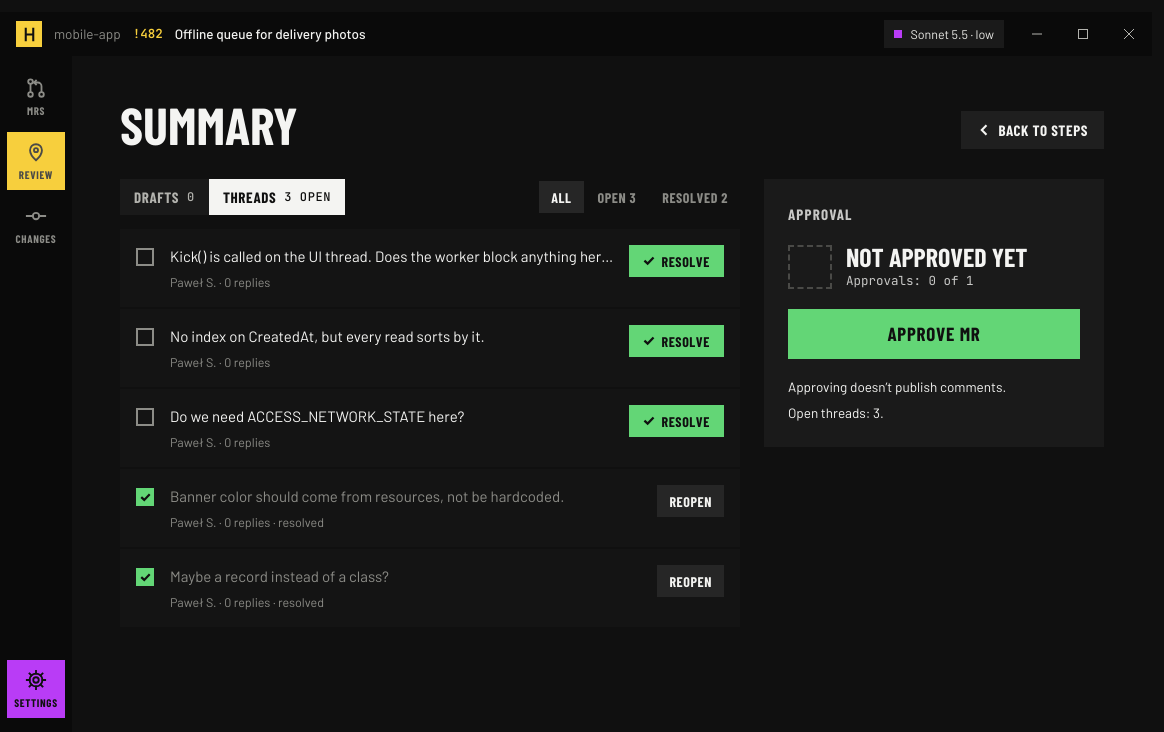
Test: S-05 Threads tab filters (F-13.1) › F-13.1 Resolved shows only the resolved threads and is the pressed filter
Click the button "Resolved 2".
click(695, 197)  # box [650, 181, 740, 213]
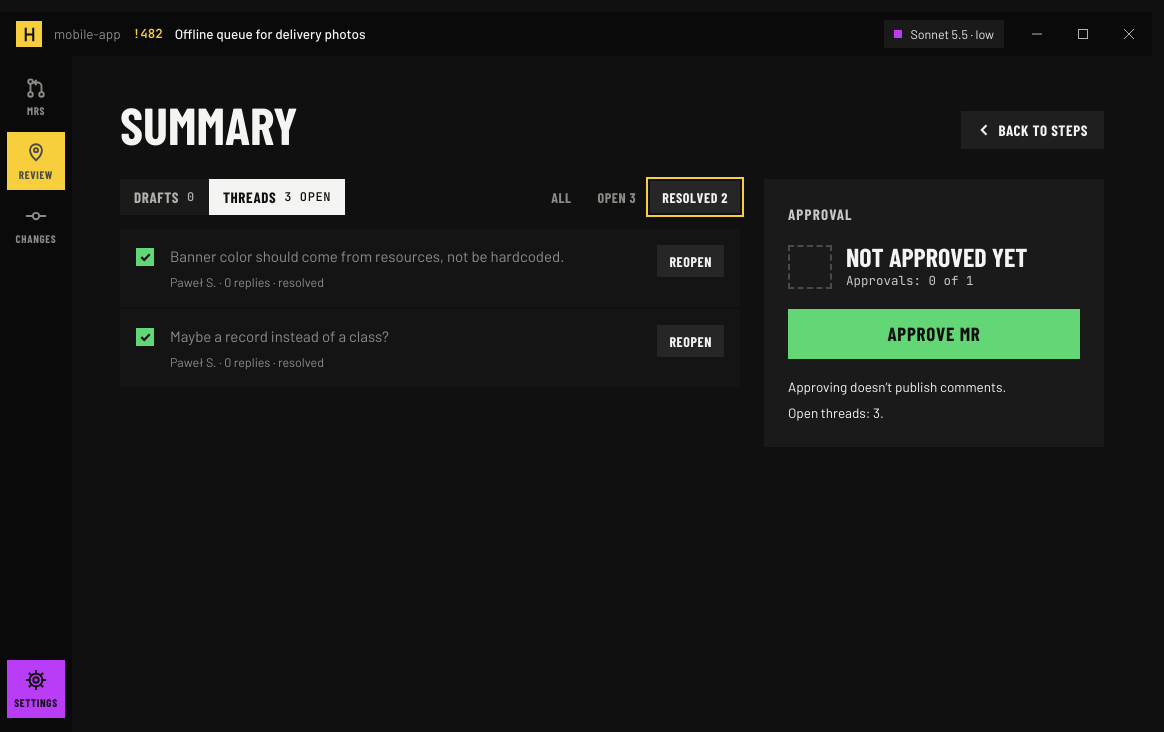
Now the text "Kick() is called on the UI thread. Does the worker block anything here?" is gone
Now the text "No index on CreatedAt, but every read sorts by it." is gone
Now the text "Do we need ACCESS_NETWORK_STATE here?" is gone
